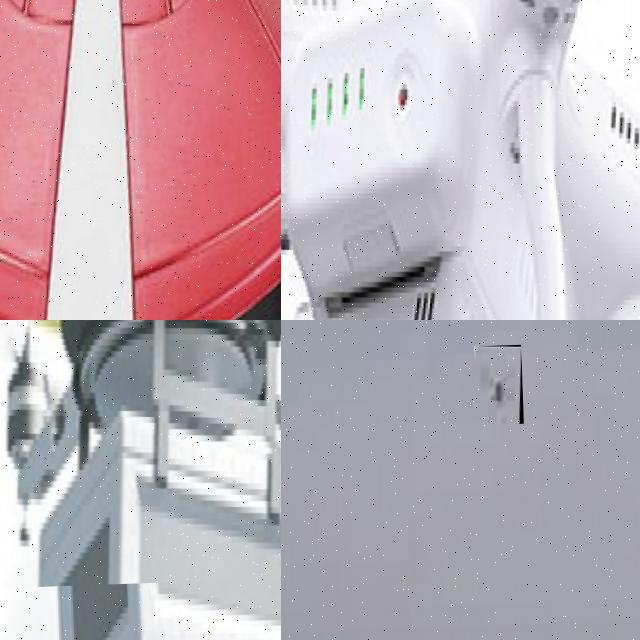0: (474, 344, 524, 425)
drone: (281, 0, 640, 320), (0, 0, 281, 320), (0, 320, 281, 596)
